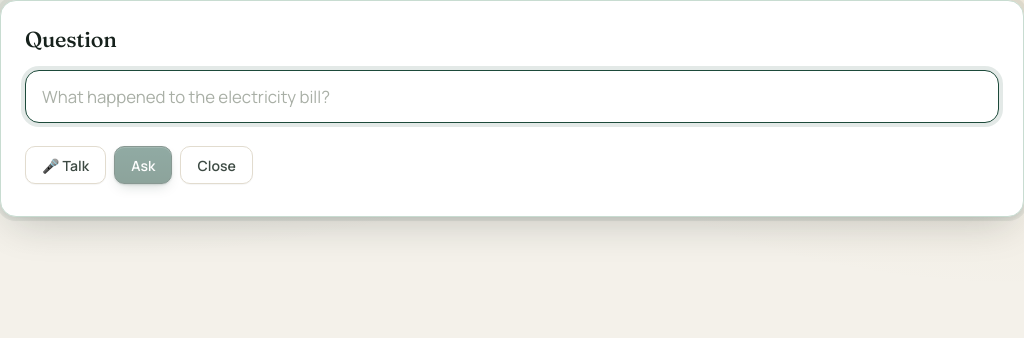
it: Voice input › shows a retry after a transcription failure
Click the button with aria-label "Start voice recording" at [66, 165], box left=25, top=146, right=106, bottom=184
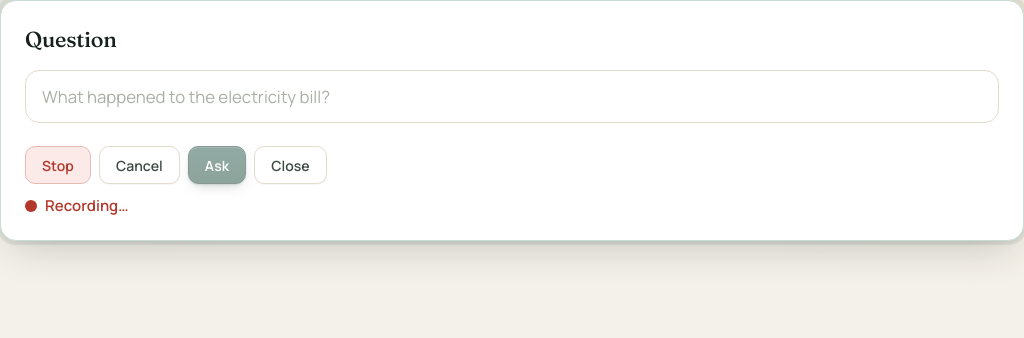
Click the button with aria-label "Stop recording" at [58, 165], box left=25, top=146, right=91, bottom=184
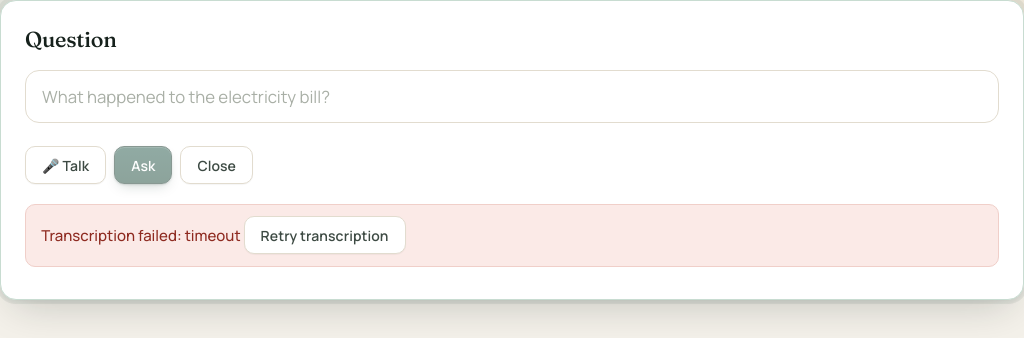
Expected: the field labelled "Question" is enabled, left=25, top=70, right=999, bottom=123
Expected: the message shows "Transcription failed: timeout", left=41, top=225, right=241, bottom=246
Click the button "Retry transcription" at [325, 235], box left=244, top=216, right=406, bottom=254
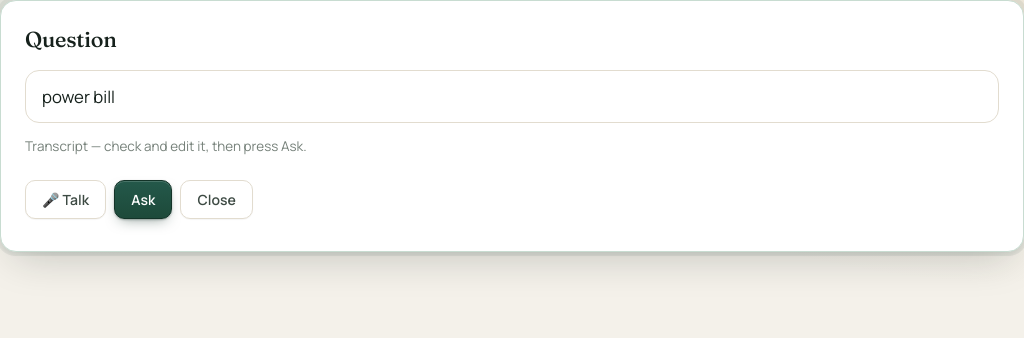
Expected: the field labelled "Question" holds "power bill", left=25, top=70, right=999, bottom=123
